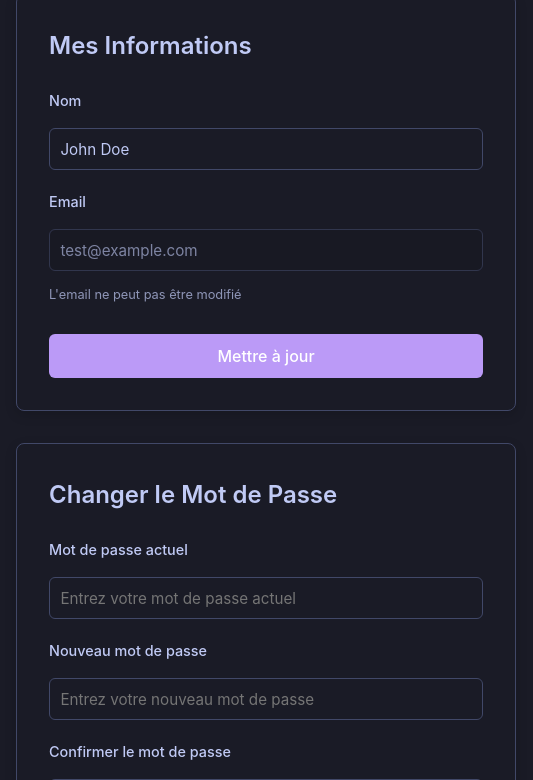
Test: UserProfile › should disable password button while changing password
Type "oldpassword123" into the password field labelled "Mot de passe actuel" at (266, 598), box [49,577,483,619]
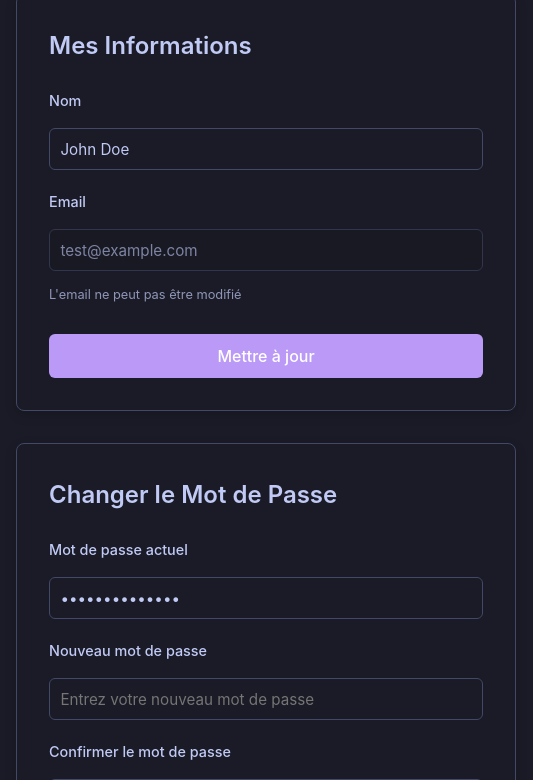
Type "newpassword123" into the password field labelled "Nouveau mot de passe" at (266, 699), box [49,678,483,720]
(page scrolled)
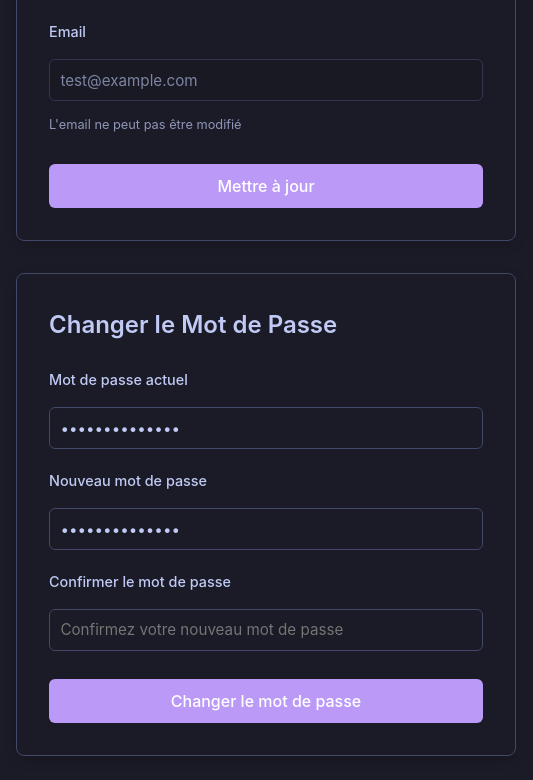
Type "newpassword123" into the password field labelled "Confirmer le mot de passe" at (266, 630), box [49,609,483,651]
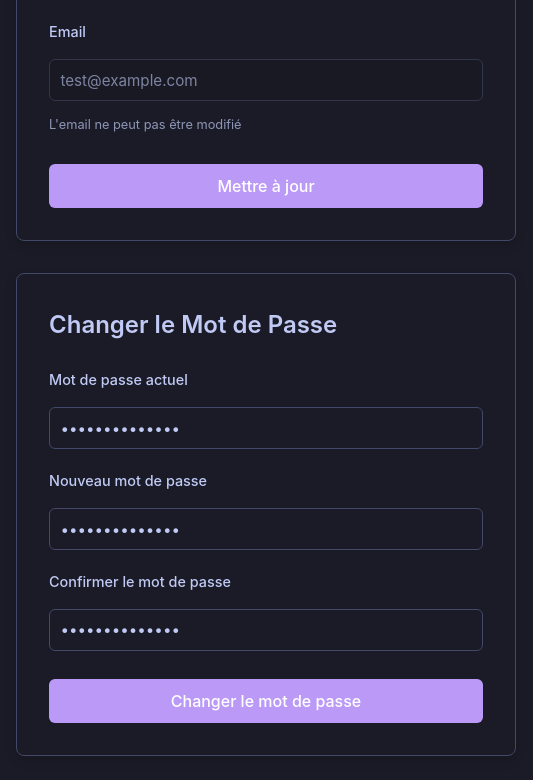
Click the button "Changer le mot de passe" at (266, 701), box [49,679,483,723]
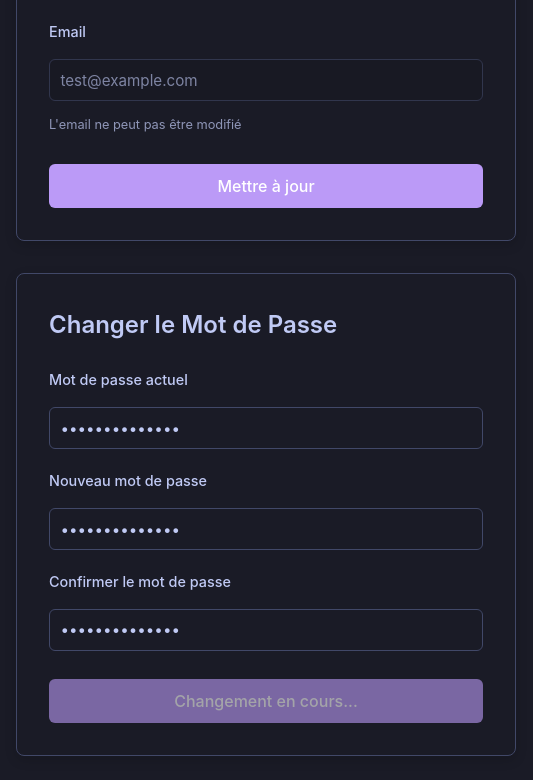
Result: the button "Changement en cours..." is disabled at [49,679,483,723]
